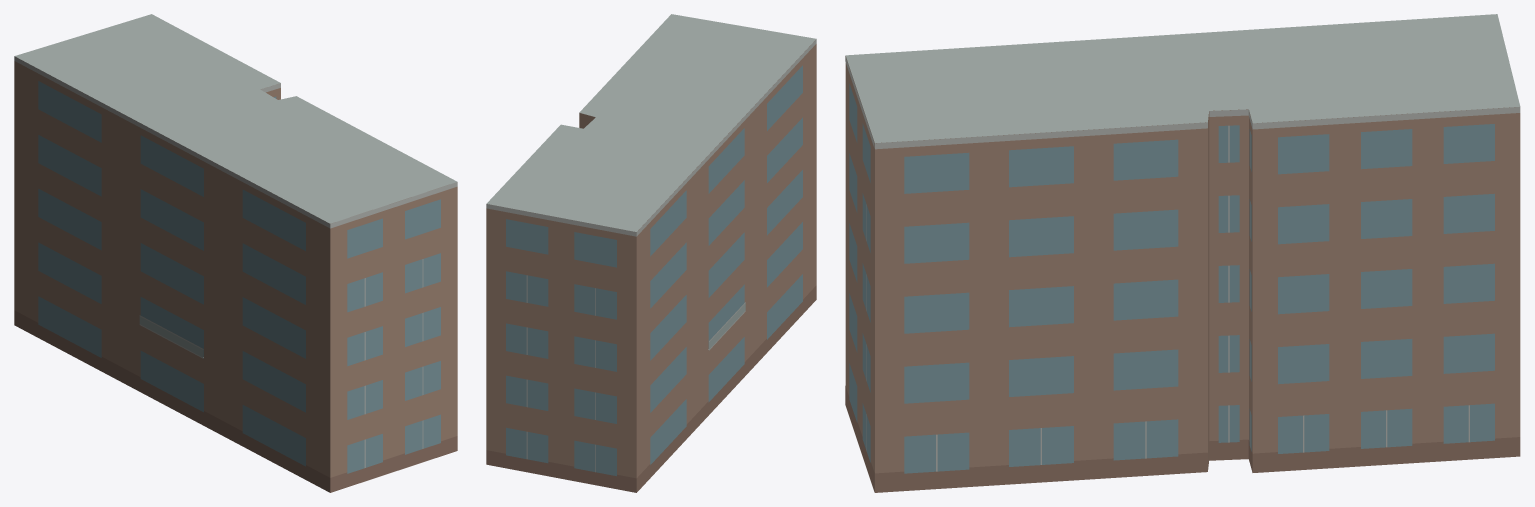
The model's file is survey-upis-32576853.glb.
3 renders of one model, left to right at view 1: azimuth 30°, elevation 25°; view 2: azimuth 150°, elevation 25°; view 3: azimuth 270°, elevation 25°, orthographic. The views are drawn at different scales.
Visible parts, largest first — view 1: survey-upis-32576853.tmp; view 2: survey-upis-32576853.tmp; view 3: survey-upis-32576853.tmp.
Boxes of the visible parts, left/top/right/bottom form: survey-upis-32576853.tmp: left=14, top=14, right=457, bottom=492; survey-upis-32576853.tmp: left=486, top=14, right=816, bottom=492; survey-upis-32576853.tmp: left=845, top=14, right=1520, bottom=492.
Bounding box in the file's own units: 11.02 × 13.9 × 24.32.
